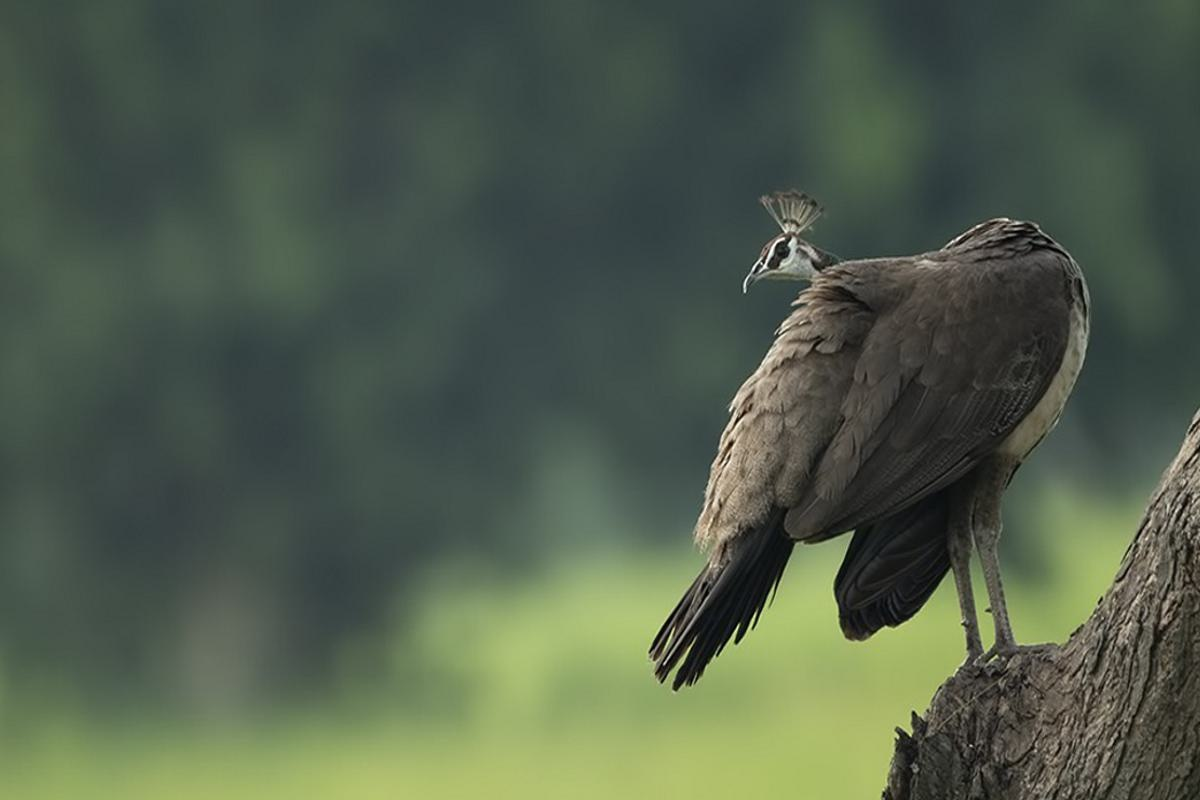peacock: (653, 156, 1087, 688)
